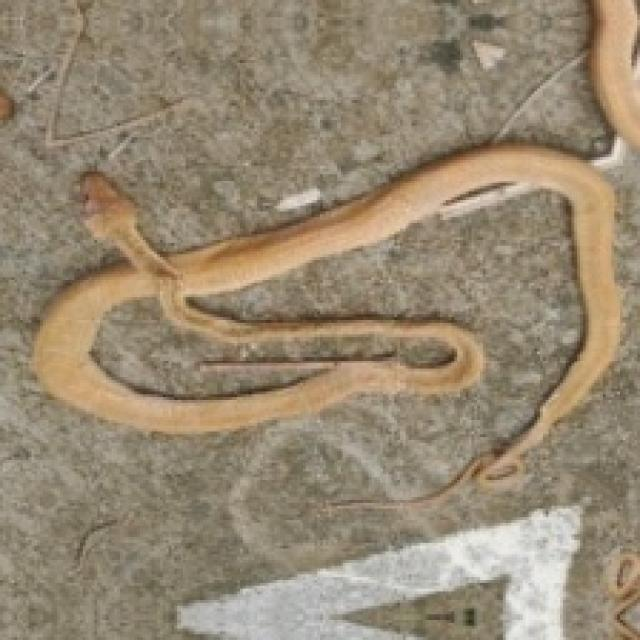philippine cat snake: (34, 143, 617, 503), (589, 0, 637, 146)
